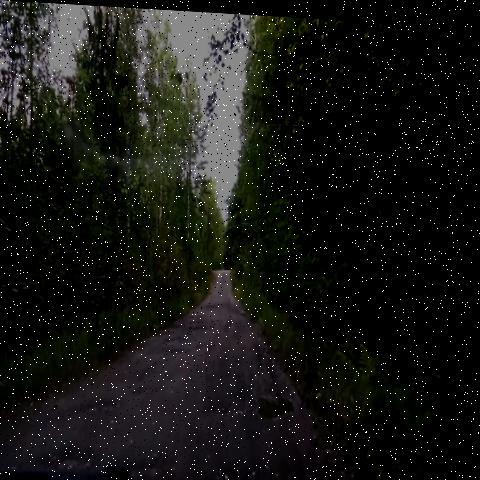pothole: (206, 367, 309, 446), (30, 437, 109, 480), (75, 386, 132, 429), (120, 450, 190, 480), (166, 326, 199, 373), (220, 299, 257, 338), (184, 310, 218, 342)
